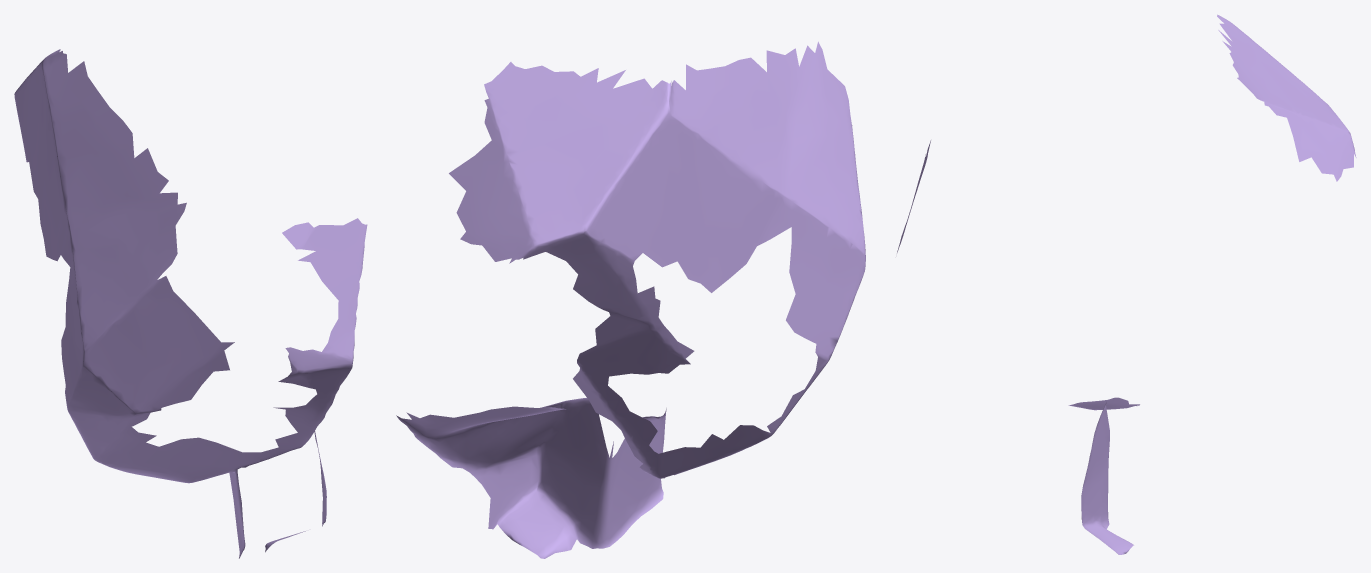
Rendered from test-real-tripo.glb.
The picture shows the model from 3 angles, left to right: view 1: azimuth 30°, elevation 25°; view 2: azimuth 150°, elevation 25°; view 3: azimuth 270°, elevation 25°; orthographic projection. The views are drawn at different scales.
Visible parts, largest first — view 1: CyberPlanetTest; view 2: CyberPlanetTest; view 3: CyberPlanetTest.
Part boxes in pixels (<box>): CyberPlanetTest: <box>14,49,367,558</box>; CyberPlanetTest: <box>396,41,865,558</box>; CyberPlanetTest: <box>897,14,1356,554</box>.
Bounding box in the file's own units: 0.0632 × 0.0955 × 0.0865.
